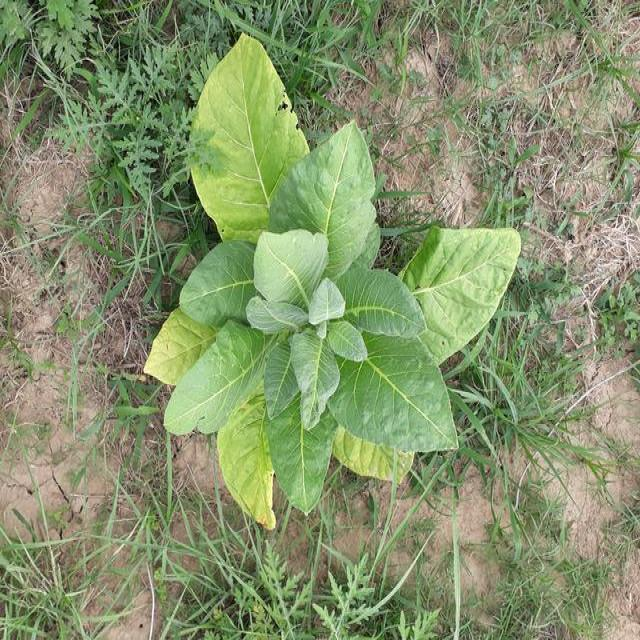crop: (142, 47, 522, 509)
